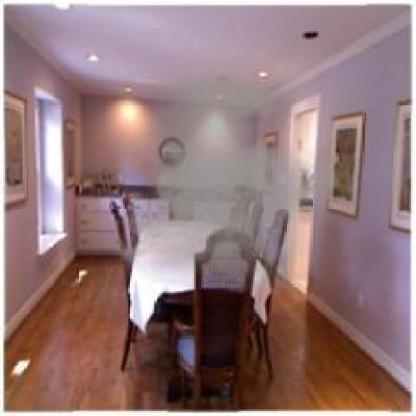Smoke: (37, 85, 301, 312)
